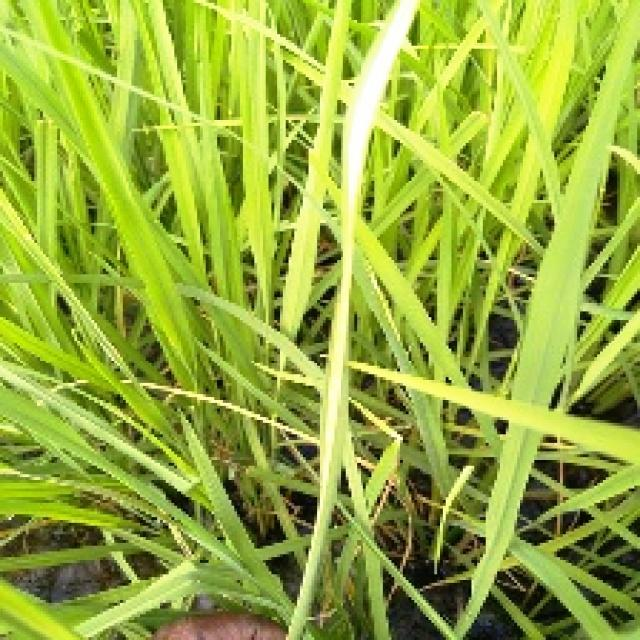health: (0, 7, 263, 379)
